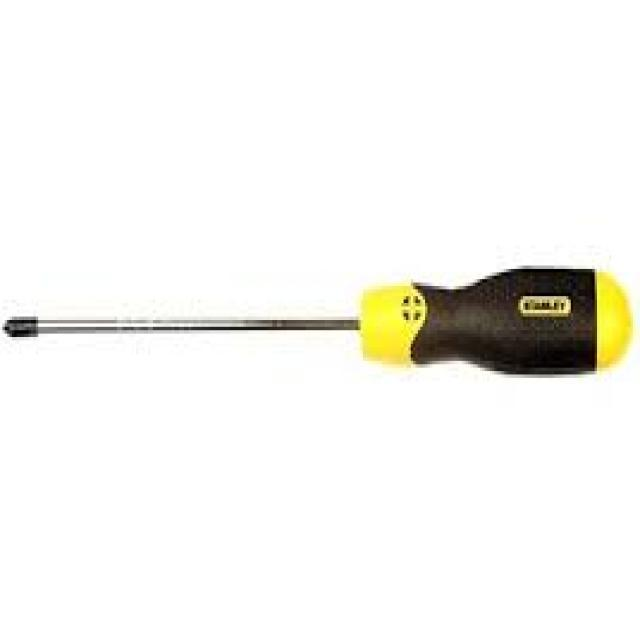screwdriver: (0, 265, 638, 378)
